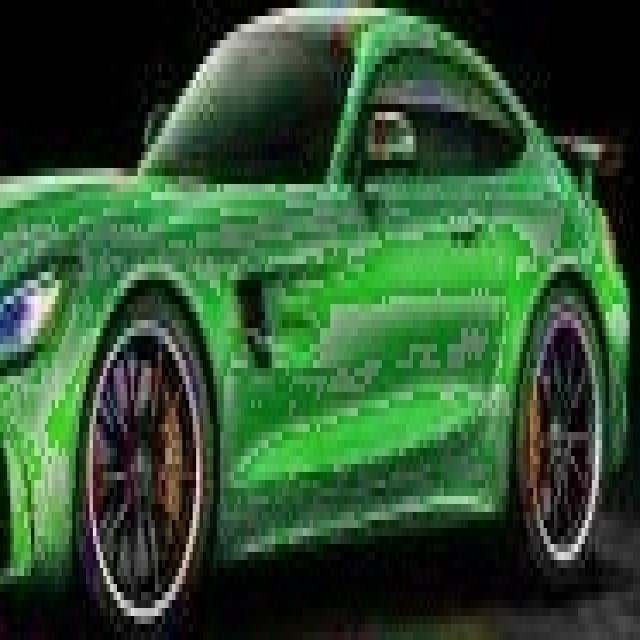green: (0, 8, 630, 640)
